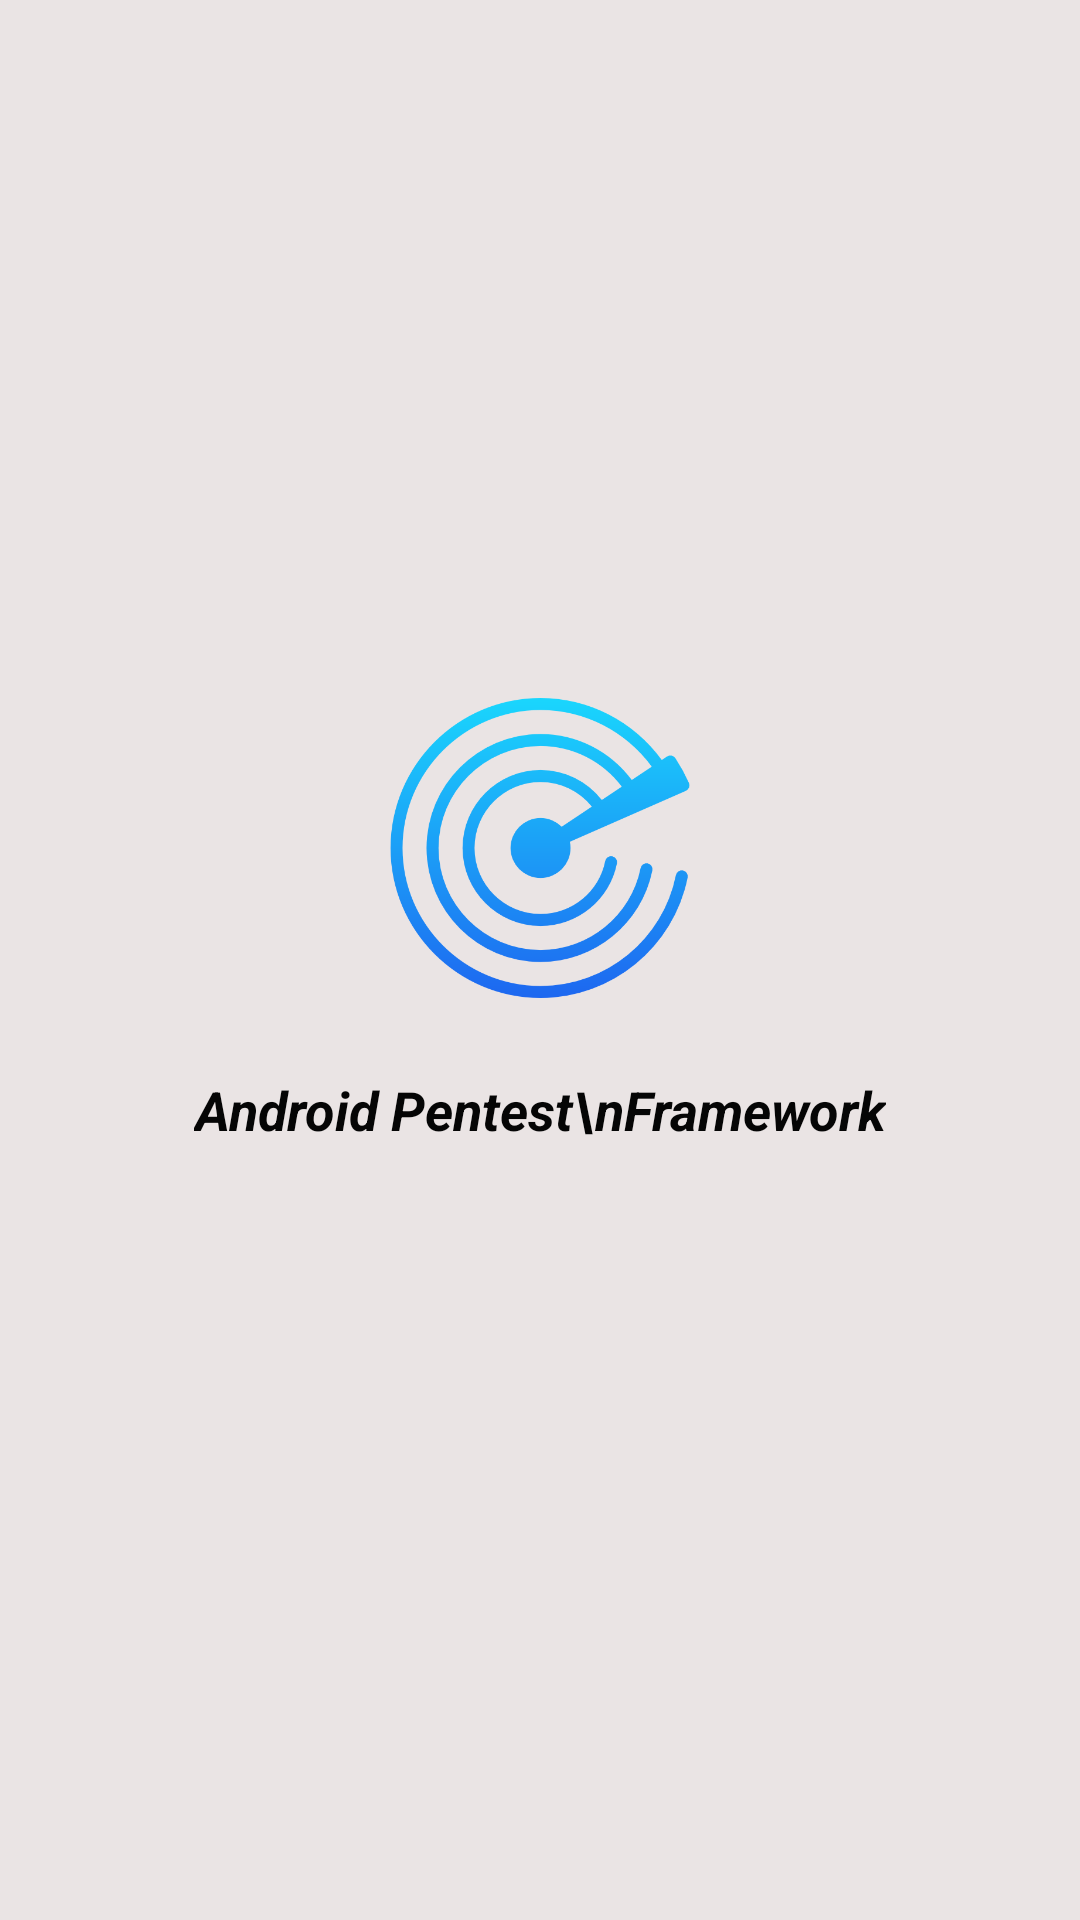

Screen size 1080 x 1920. Icon name, then its box in pixels as (x1, y1, x2, y2):
radar: (390, 698, 690, 998)
